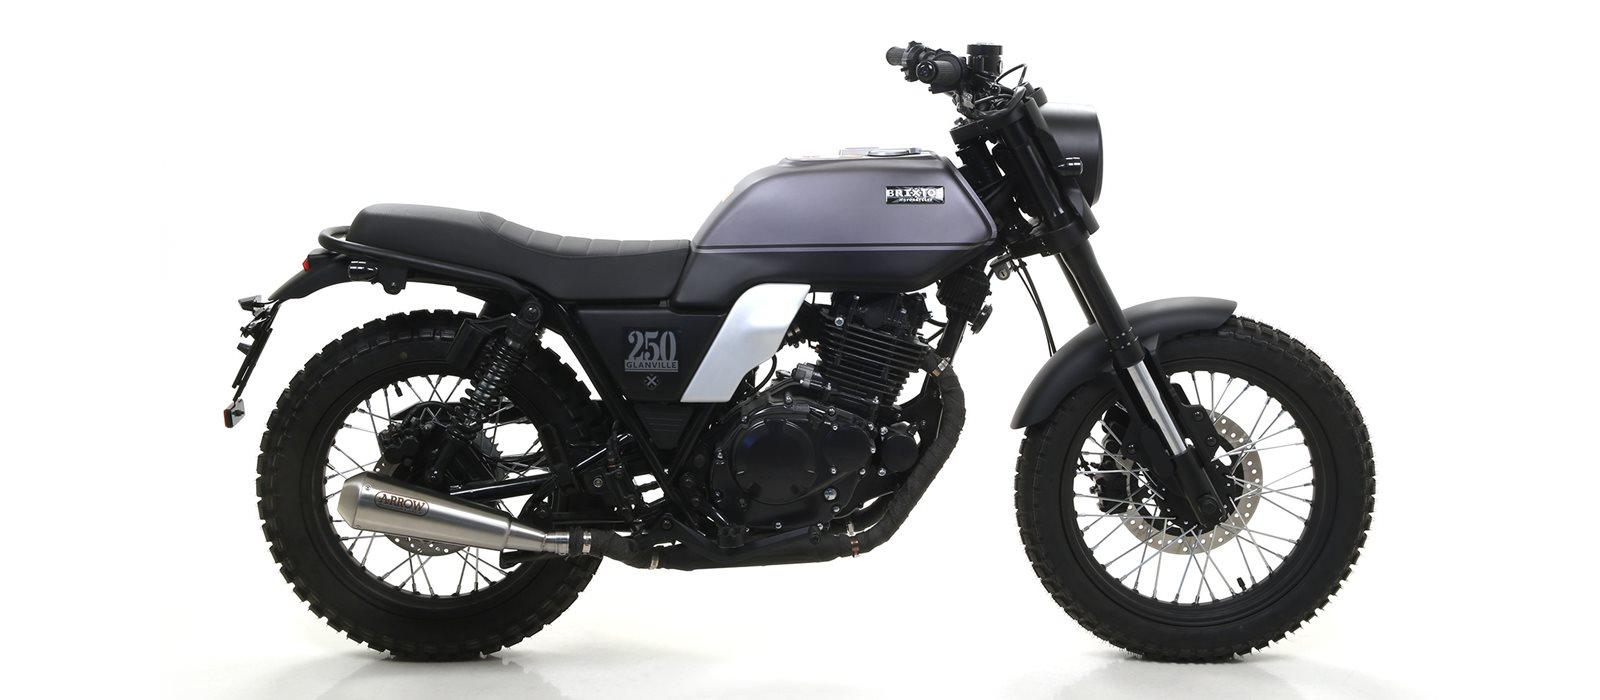engine-chasis: (584, 282, 946, 562), (422, 301, 547, 490), (499, 551, 562, 568)
exhaust: (336, 347, 966, 572)
frontside: (934, 87, 1238, 524)
handlebar: (885, 40, 1035, 121)
motorbike: (224, 39, 1376, 660)
rearside: (223, 226, 731, 541)
seat: (345, 202, 691, 300)
tank: (671, 146, 998, 306)
wheel: (1012, 315, 1377, 663), (256, 307, 603, 661), (445, 340, 601, 482), (1013, 259, 1056, 358)
